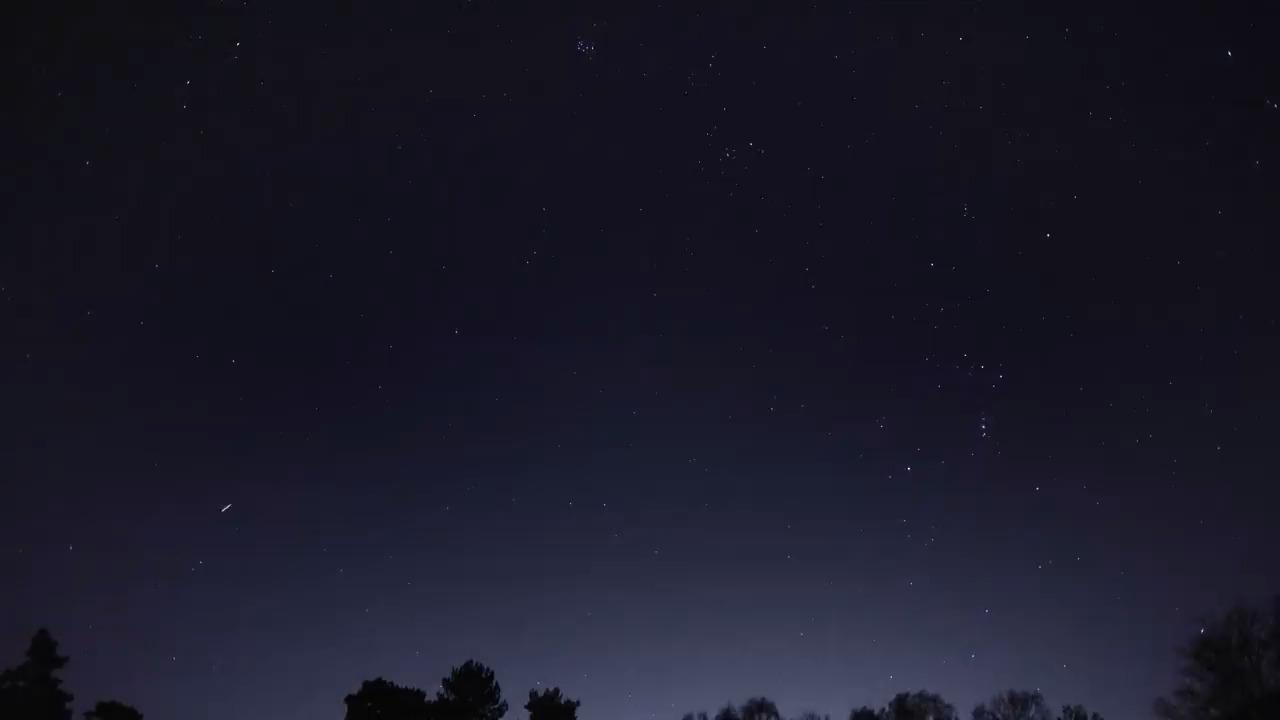meteorite: (205, 498, 247, 516)
